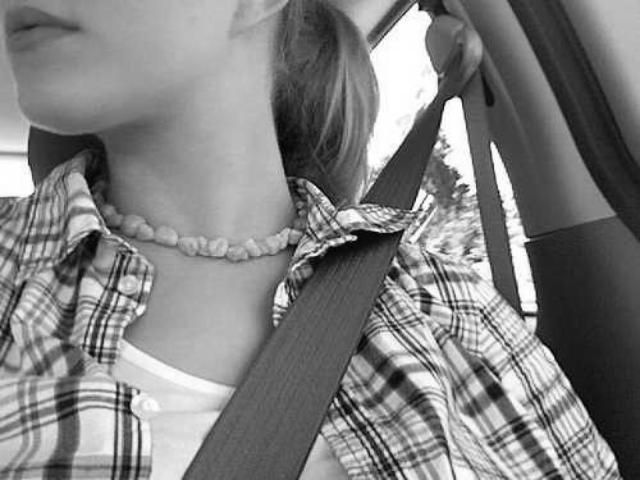Seatbelt: (172, 104, 448, 480)
